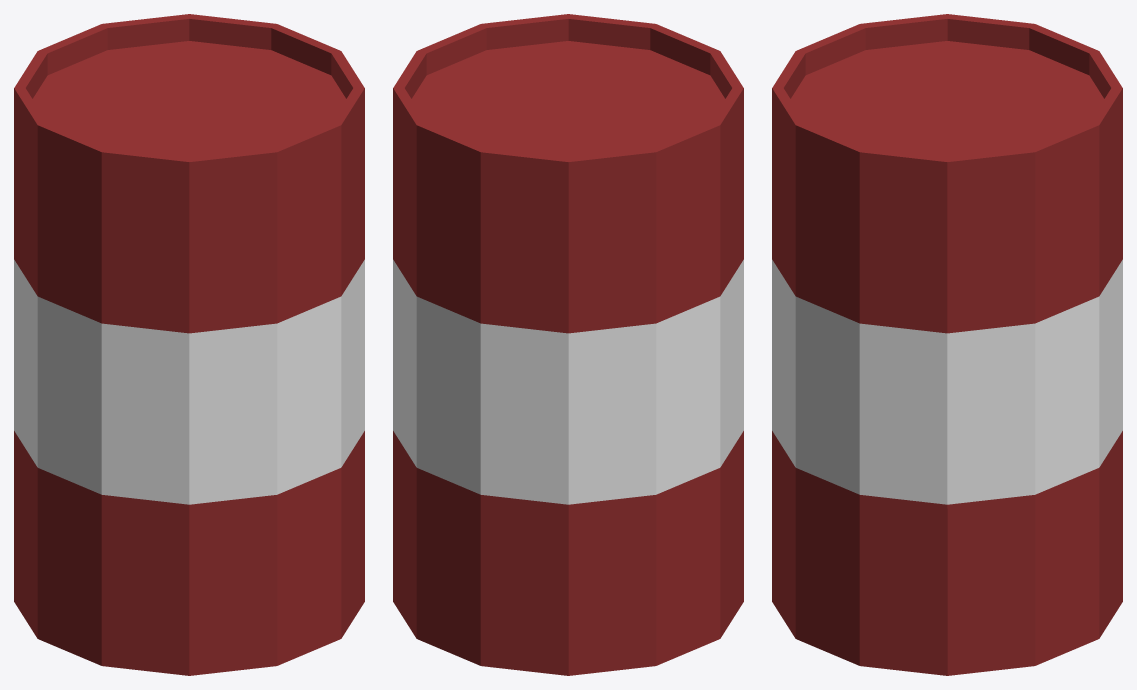
The model's file is SM_barrel_01.fbx.
The picture shows the model from 3 angles, left to right: view 1: azimuth 30°, elevation 25°; view 2: azimuth 150°, elevation 25°; view 3: azimuth 270°, elevation 25°; orthographic projection.
Parts seen in each view (by area): view 1: Cylinder020; view 2: Cylinder020; view 3: Cylinder020.
Boxes of the visible parts, x1,y1,x2,y2 form: Cylinder020: (14, 14, 364, 675); Cylinder020: (393, 14, 743, 675); Cylinder020: (772, 14, 1122, 675).
Bounding box in the file's own units: 23.91 × 38.65 × 23.91.
